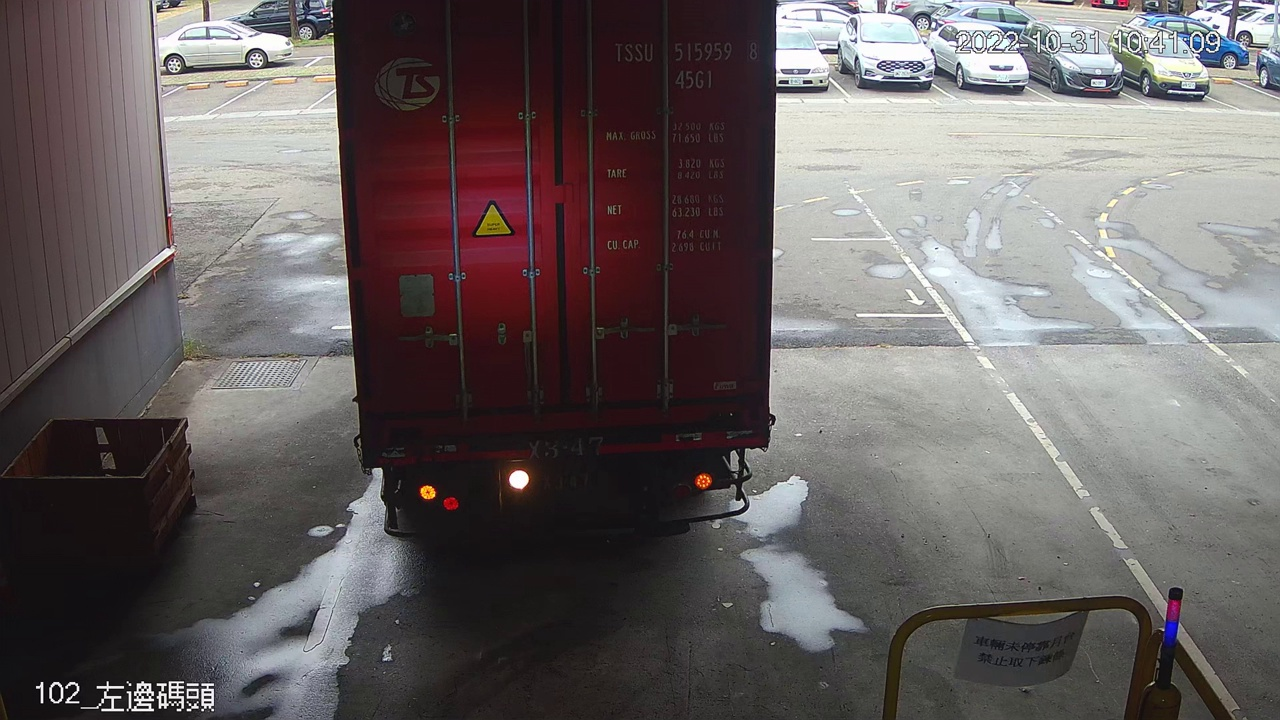container: (608, 33, 766, 95)
